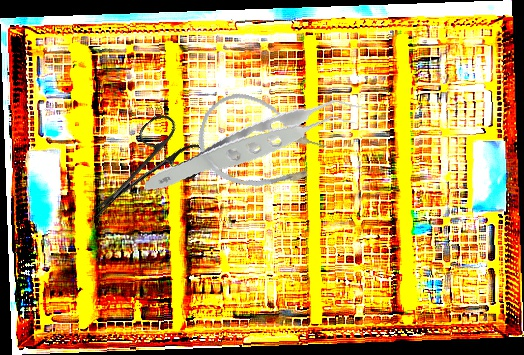Cannula: (187, 84, 334, 207)
Iris Scissors: (71, 107, 213, 243)
Tissue Forceps: (143, 69, 372, 227)
